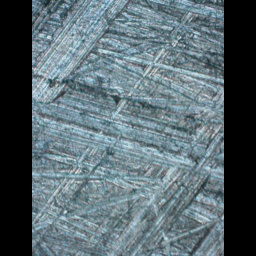d: (37, 116, 224, 203), (32, 0, 117, 109)
